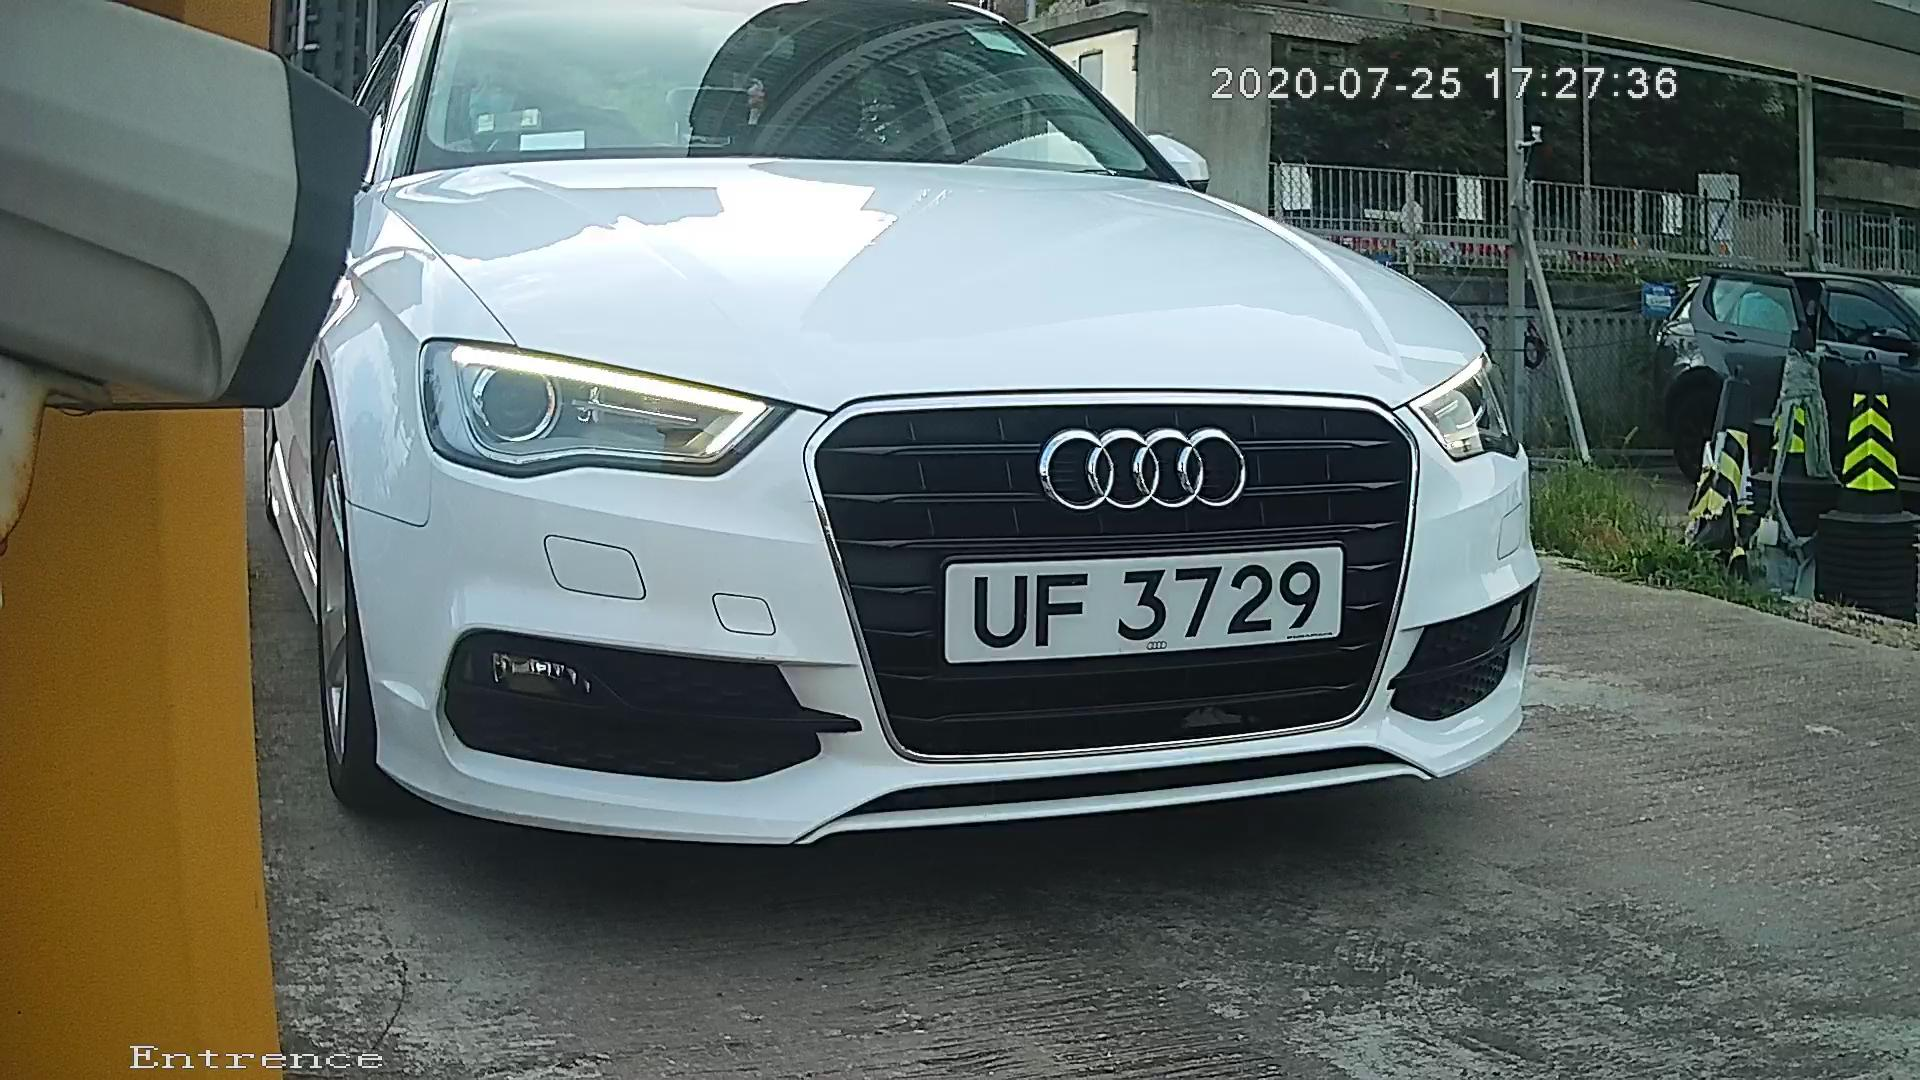Car: (112, 1, 1638, 897)
License Plate: (900, 536, 1363, 676)
